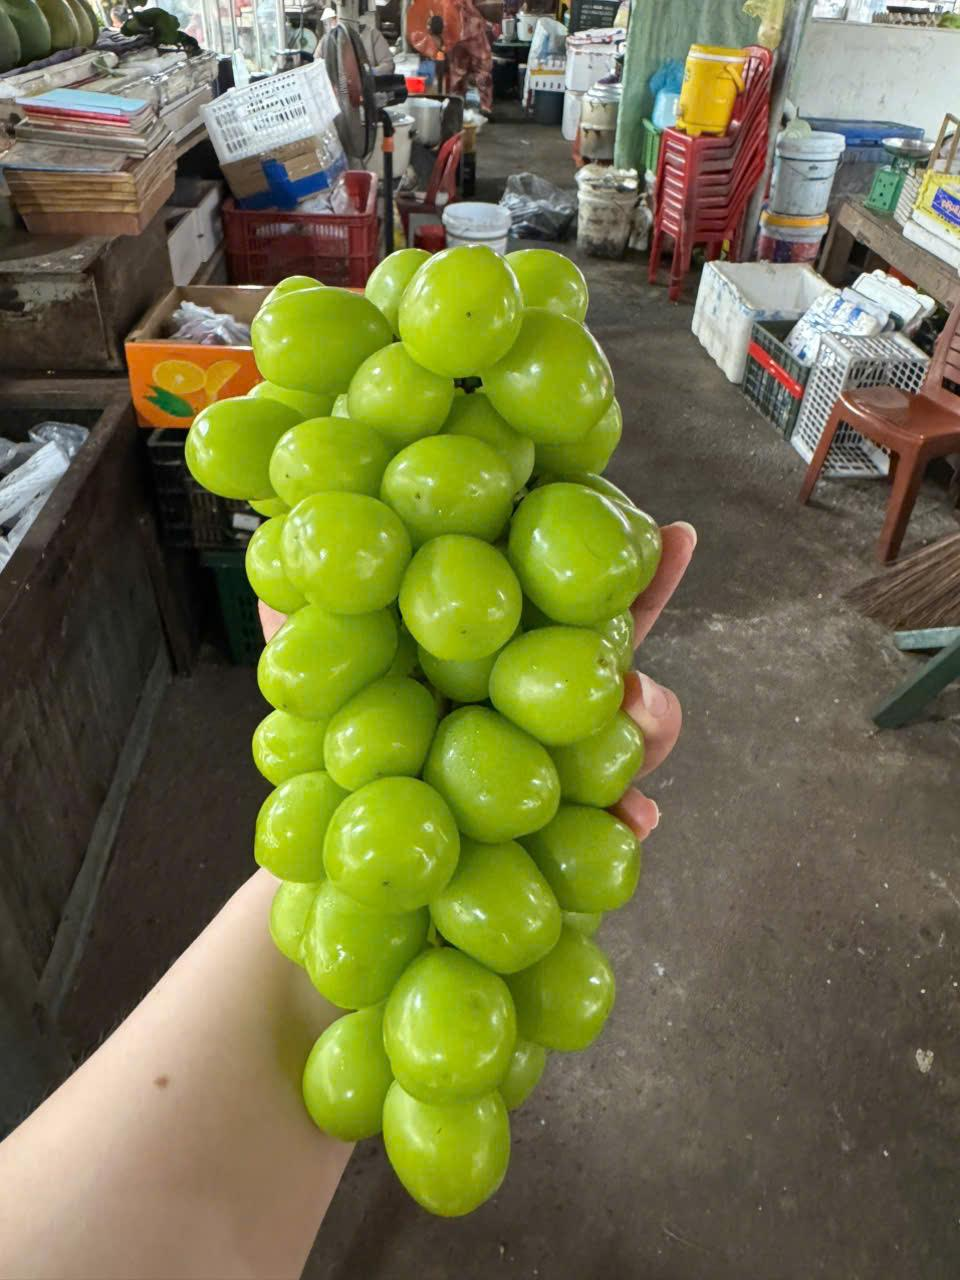grape: (174, 226, 677, 1238)
